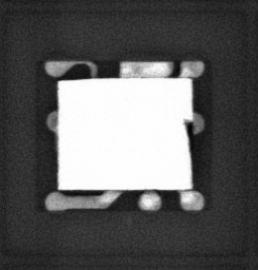DIE_BROKEN: (182, 118, 194, 155)
